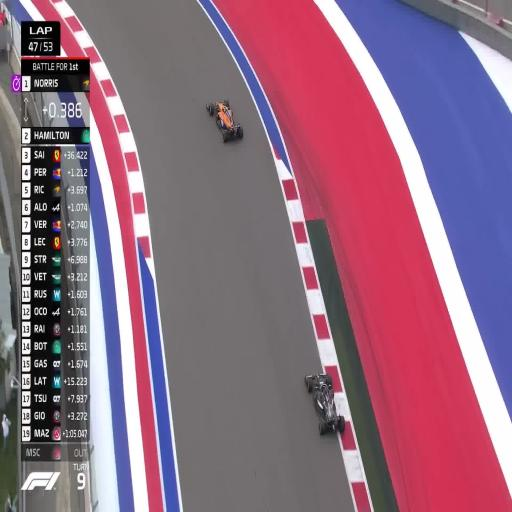f1_car: (305, 374, 345, 434), (206, 99, 243, 141)
